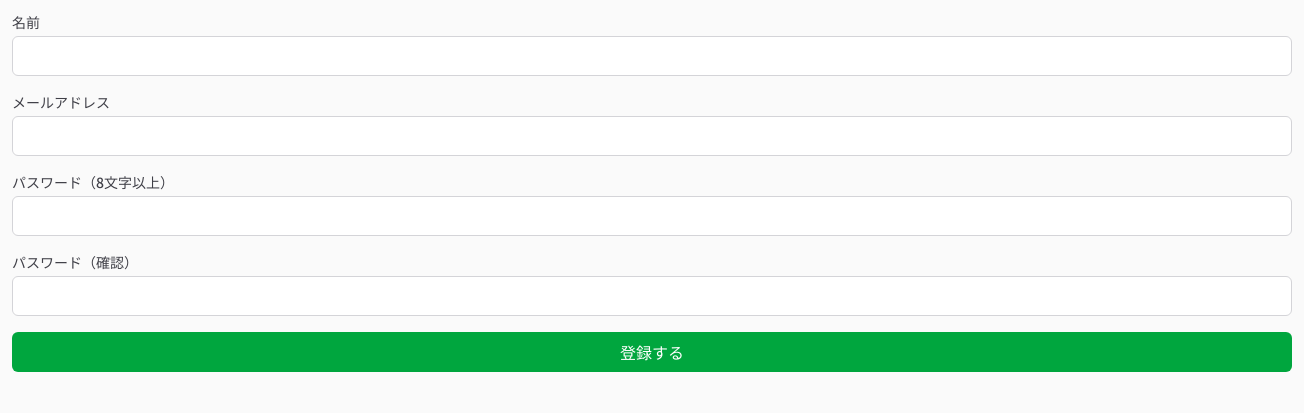
Test: 422 のメールアドレス重複は、メールアドレス欄の下に出す
In the field labelled "名前": (652, 56) 12,36 -> 1292,76, type "山田太郎"
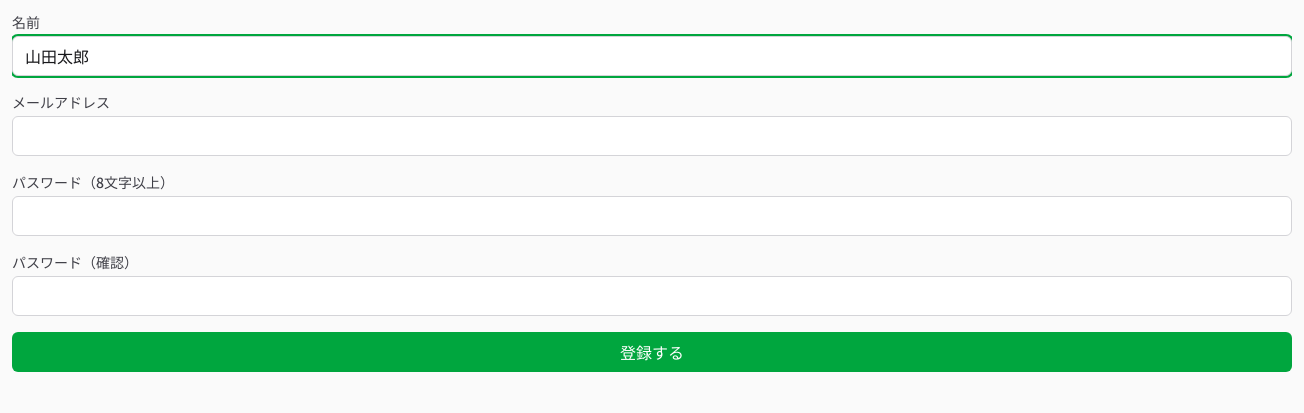
In the field labelled "メールアドレス": (652, 136) 12,116 -> 1292,156, type "taro@example.com"
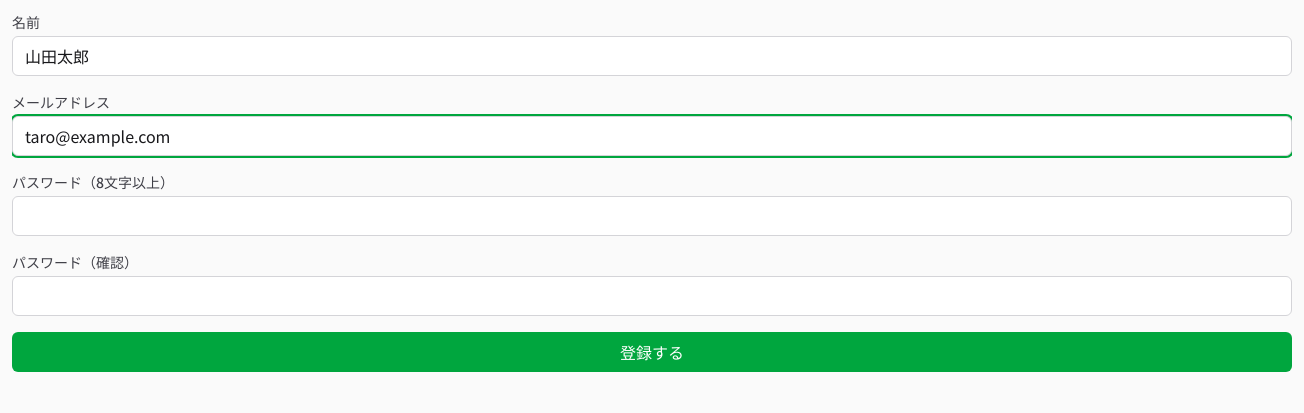
In the password field labelled "パスワード（8文字以上）": (652, 216) 12,196 -> 1292,236, type "password123"
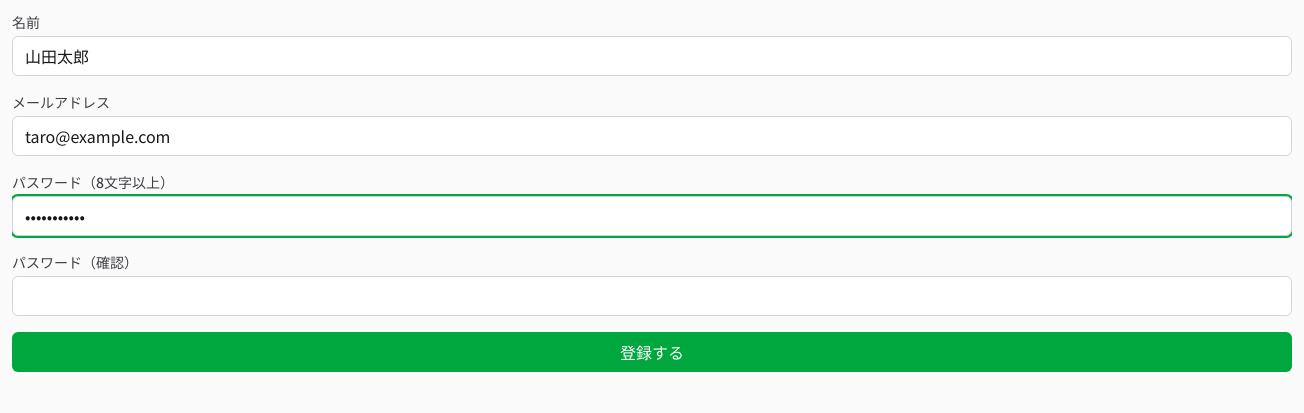
In the password field labelled "パスワード（確認）": (652, 296) 12,276 -> 1292,316, type "password123"
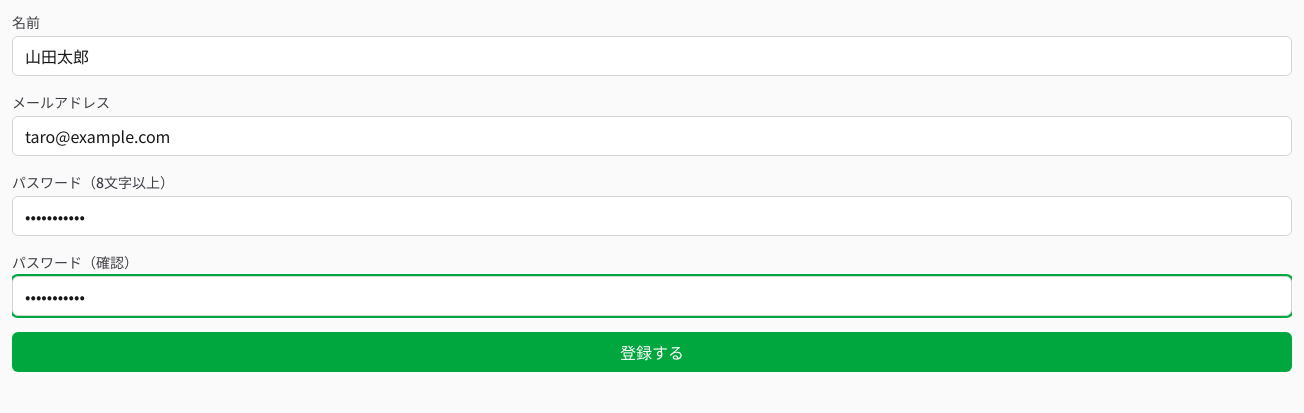
Click the button "登録する": (652, 352) 12,332 -> 1292,372
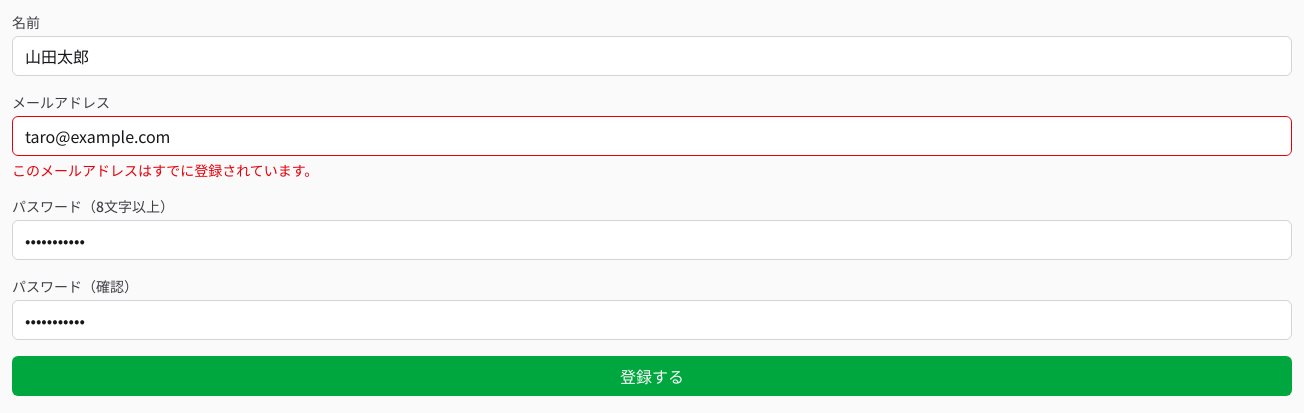
expect the text "このメールアドレスはすでに登録されています。" is shown: met, box 12,160 -> 318,180
